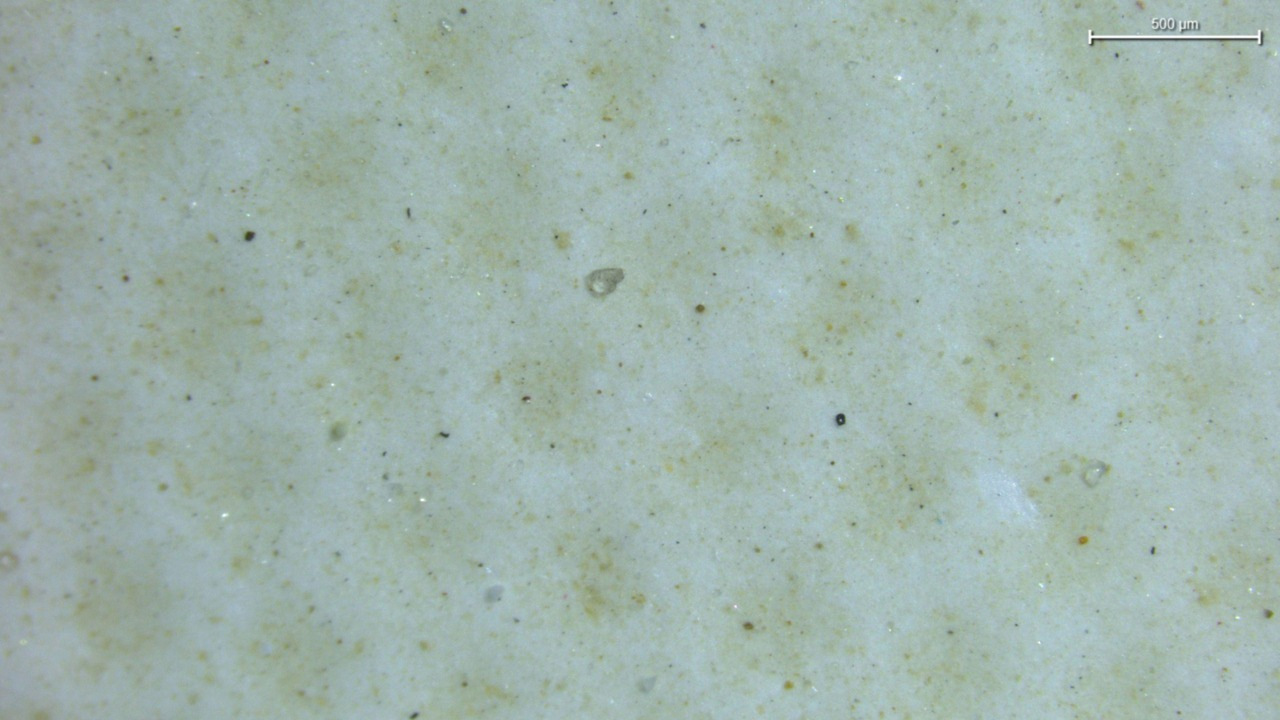microplastic_fragment: (584, 268, 624, 299)
